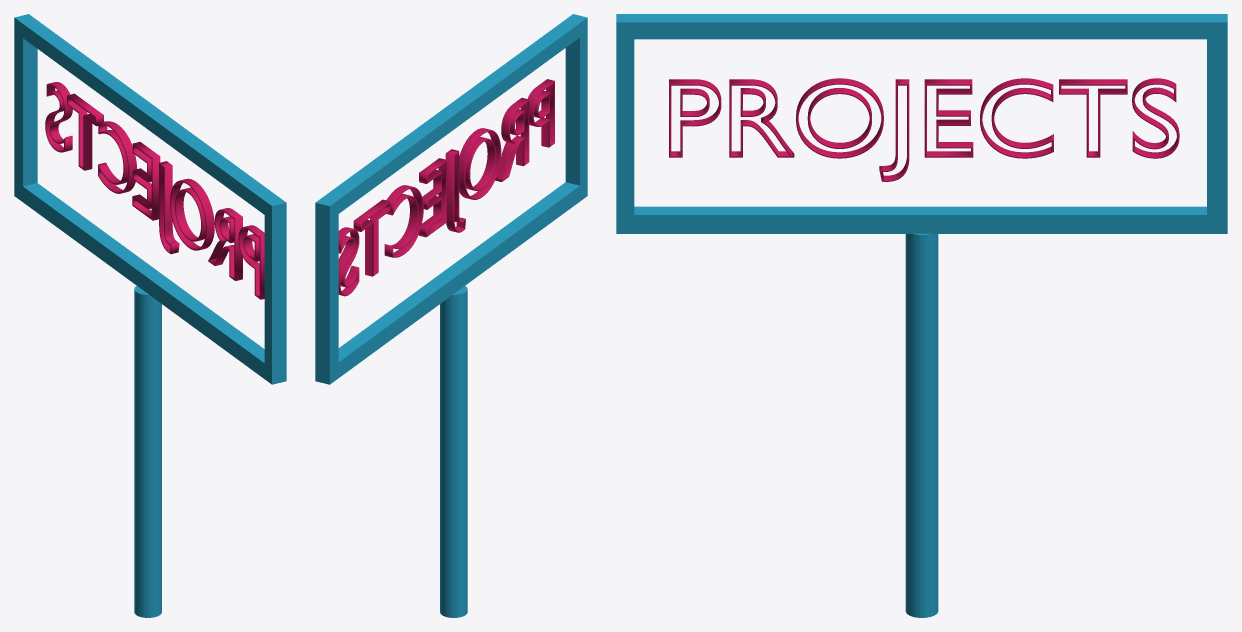
The model's file is projects1.obj.
3 views of the same model, side by side, from view 1: azimuth 30°, elevation 25°; view 2: azimuth 150°, elevation 25°; view 3: azimuth 270°, elevation 25° (orthographic). The views are drawn at different scales.
Visible parts, largest first — view 1: Plane, Text_Text.002, Cylinder; view 2: Plane, Text_Text.002, Cylinder; view 3: Plane, Text_Text.002, Cylinder.
Part boxes in pixels (x1=…): Plane: x1=14, y1=14, x2=286, y2=384; Text_Text.002: x1=45, y1=82, x2=264, y2=299; Cylinder: x1=134, y1=286, x2=161, y2=617; Plane: x1=315, y1=14, x2=587, y2=384; Text_Text.002: x1=338, y1=79, x2=554, y2=296; Cylinder: x1=440, y1=286, x2=467, y2=617; Plane: x1=616, y1=14, x2=1227, y2=233; Text_Text.002: x1=669, y1=78, x2=1179, y2=181; Cylinder: x1=905, y1=233, x2=938, y2=617.
Bounding box in the file's own units: 0.3027 × 5.62 × 5.24.
